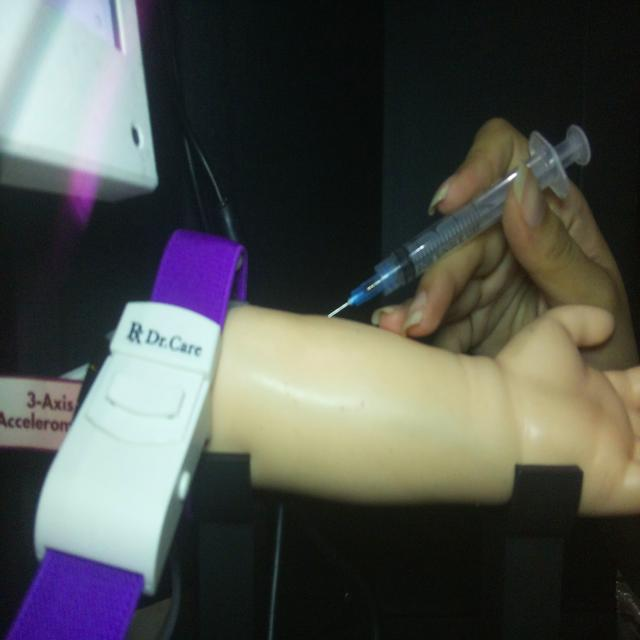26 degrees: (326, 120, 592, 320)
